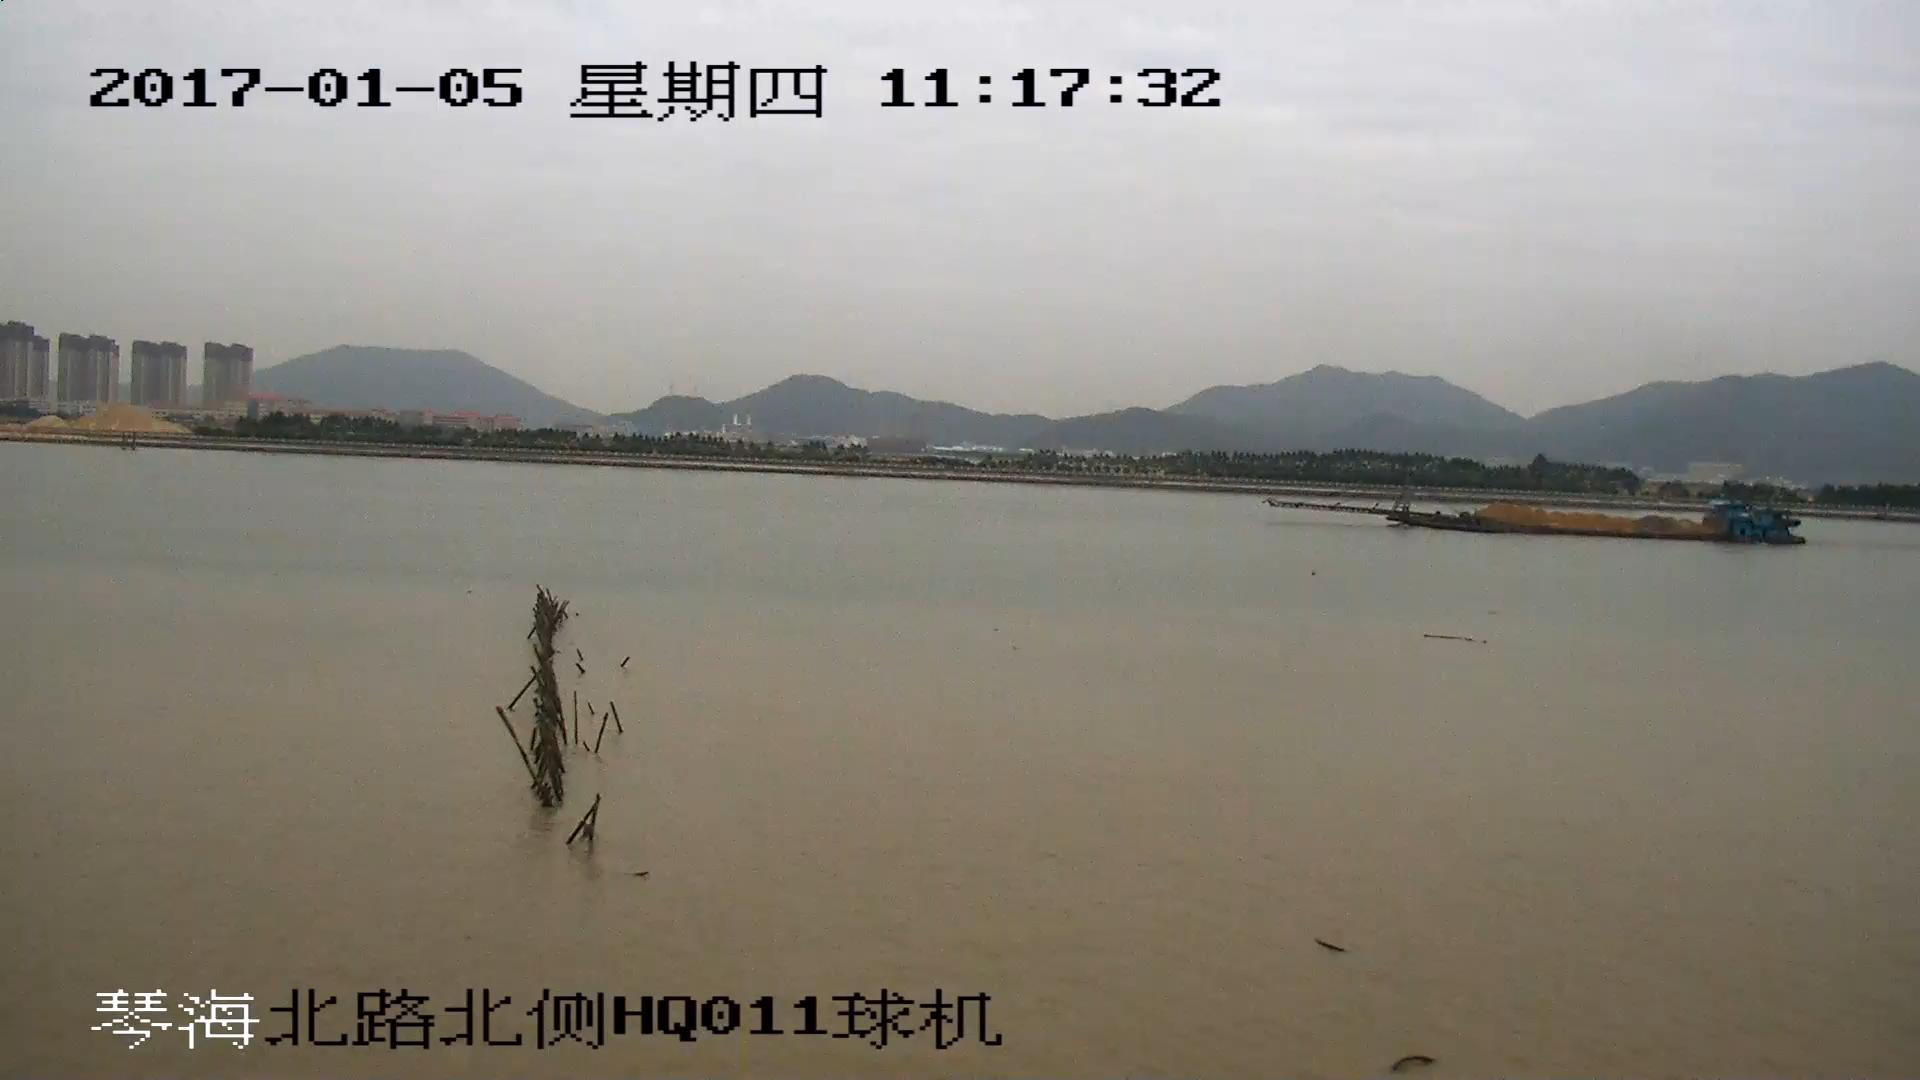ore carrier: (1286, 474, 1800, 544)
